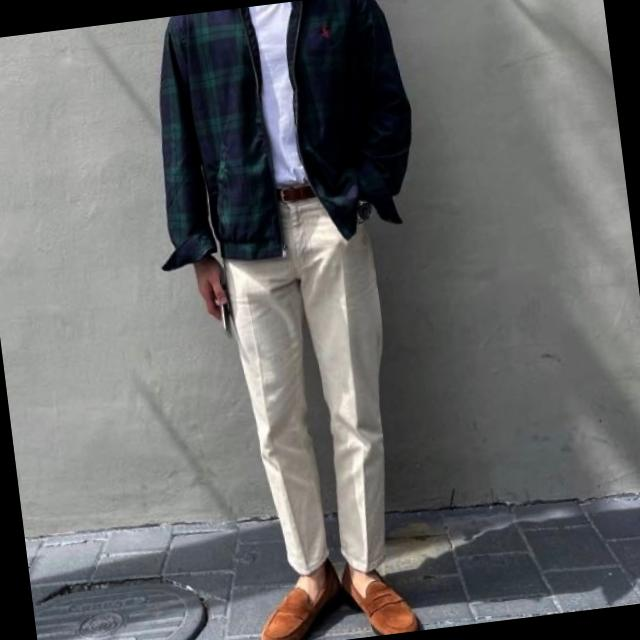cottonpants: (211, 175, 414, 588)
jacket: (129, 0, 428, 279)
